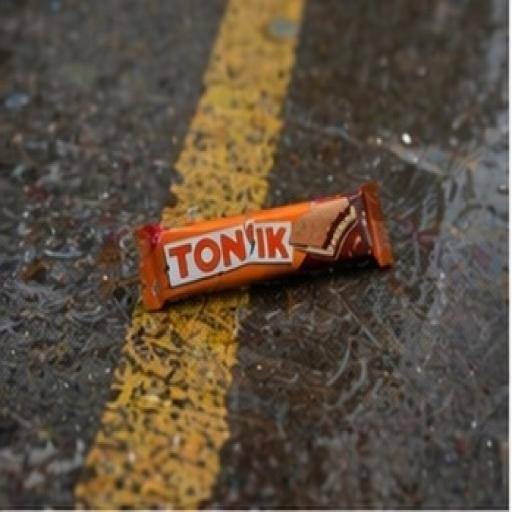tonik: (81, 127, 459, 405)
